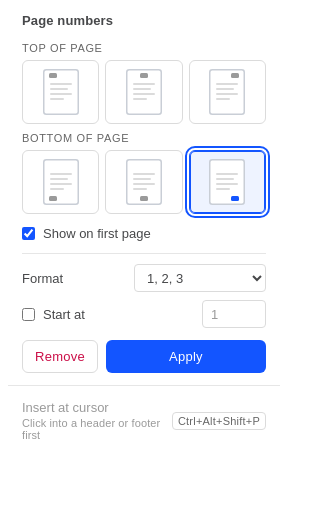
Test case: PageNumberMenu › stays open and explains a number that shares its line with other text
This screenshot has width=320, height=516.
Click the radio button named "Top of page, right" at (227, 92), box [189,60,266,124]
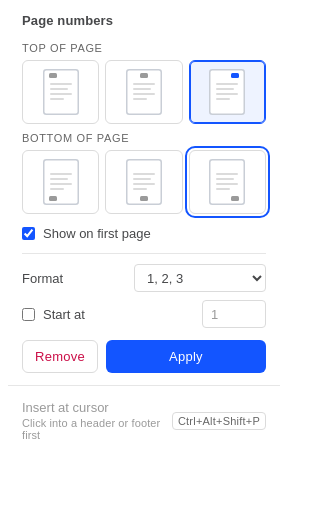
Click the button "Apply" at (186, 356), box [106,340,266,373]
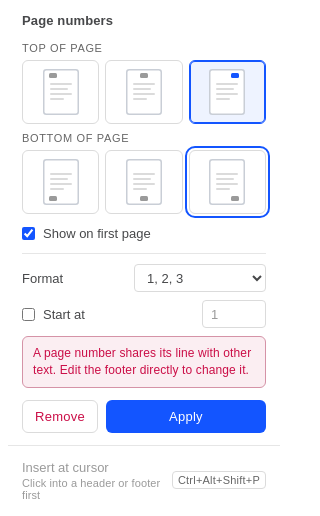
Now the message shows "A page number shares its line with other text. Edit the footer directly to change it.", box [33,346,251,377]
